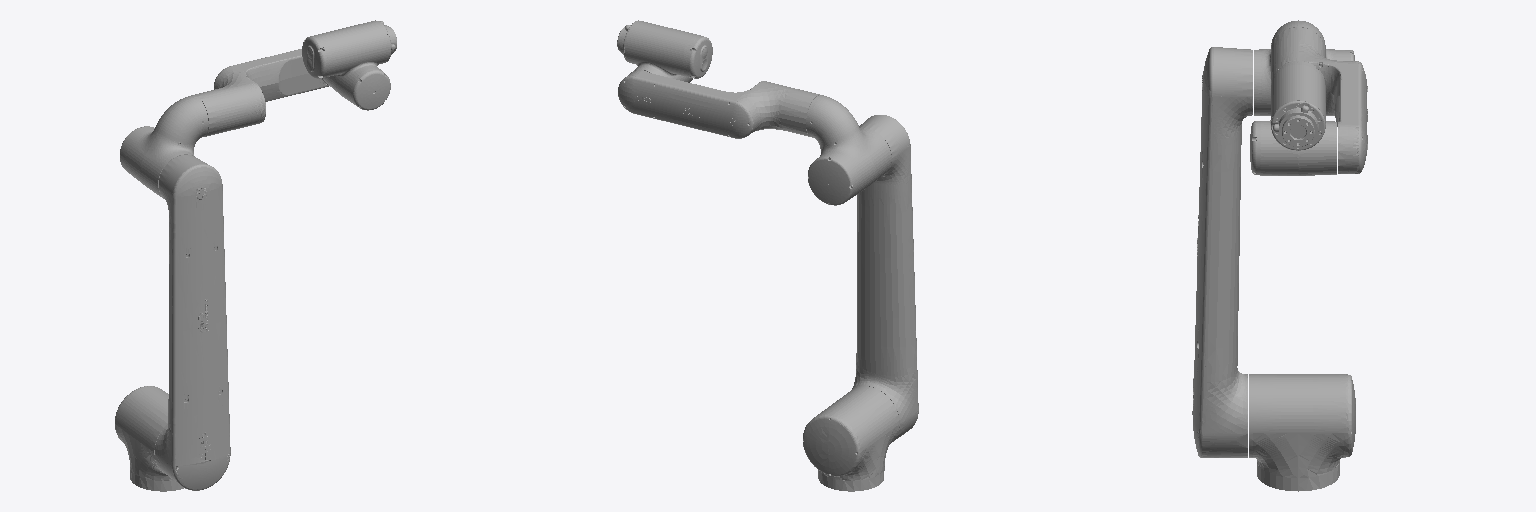
The robot description file, URDF, robot "crb15000_12_127":
<?xml version="1.0" ?>

<robot name="crb15000_12_127">

    <!-- links: main serial chain -->
    <link name="base_dummy"/>
    <link name="base_link">
        <visual>
            <origin rpy="0 0 0" xyz="0 0 0"/>
            <geometry>
                <mesh filename="package://gofa_description/meshes/crb15000_12_127/visual/base_link.stl"/>
            </geometry>
            <material name="LightGrey">
                <color rgba="0.7 0.7 0.7 1.0"/>
            </material>
        </visual>
        <collision>
            <origin rpy="0 0 0" xyz="0 0 0"/>
            <geometry>
                <mesh filename="package://gofa_description/meshes/crb15000_12_127/collision/base_link.stl"/>
            </geometry>
        </collision>
    </link>
    <link name="shoulder_link">
        <visual>
            <origin rpy="0 0 0" xyz="0 0 0.338"/>
            <geometry>
                <mesh filename="package://gofa_description/meshes/crb15000_12_127/visual/link_1.stl"/>
            </geometry>
            <material name="LightGrey">
                <color rgba="0.7 0.7 0.7 1.0"/>
            </material>
        </visual>
        <collision>
            <origin rpy="0 0 0" xyz="0 0 0.338"/>
            <geometry>
                <mesh filename="package://gofa_description/meshes/crb15000_12_127/collision/link_1.stl"/>
            </geometry>
        </collision>
    </link>
    <link name="upper_arm_link">
        <visual>
            <origin rpy="0 0 0" xyz="0 0 0"/>
            <geometry>
                <mesh filename="package://gofa_description/meshes/crb15000_12_127/visual/link_2.stl"/>
            </geometry>
            <material name="LightGrey">
                <color rgba="0.7 0.7 0.7 1.0"/>
            </material>
        </visual>
        <collision>
            <origin rpy="0 0 0" xyz="0 0 0"/>
            <geometry>
                <mesh filename="package://gofa_description/meshes/crb15000_12_127/collision/link_2.stl"/>
            </geometry>
        </collision>
    </link>
    <link name="forearm_link">
        <visual>
            <origin rpy="1.5707963 0 0" xyz="0 0 0"/>
            <geometry>
            <mesh filename="package://gofa_description/meshes/crb15000_12_127/visual/link_3.stl"/>
            </geometry>
            <material name="LightGrey">
                <color rgba="0.7 0.7 0.7 1.0"/>
            </material>
        </visual>
        <collision>
            <origin rpy="1.5707963 0 0" xyz="0 0 0"/>
            <geometry>
                <mesh filename="package://gofa_description/meshes/crb15000_12_127/collision/link_3.stl"/>
            </geometry>
        </collision>
    </link>
    <link name="wrist_1_link">
        <visual>
            <origin rpy="0 -1.5707963 3.141593" xyz="0 0 0"/>
            <geometry>
                <mesh filename="package://gofa_description/meshes/crb15000_12_127/visual/link_4.stl"/>
            </geometry>
            <material name="LightGrey">
                <color rgba="0.7 0.7 0.7 1.0"/>
            </material>
        </visual>
        <collision>
            <origin rpy="0 -1.5707963 3.141593" xyz="0 0 0"/>
            <geometry>
                <mesh filename="package://gofa_description/meshes/crb15000_12_127/collision/link_4.stl"/>
            </geometry>
        </collision>
    </link>
    <link name="wrist_2_link">
        <visual>
            <origin rpy="1.5707963 0 1.5707963" xyz="0 0 0"/>
            <geometry>
                <mesh filename="package://gofa_description/meshes/crb15000_12_127/visual/link_5.stl"/>
            </geometry>
            <material name="LightGrey">
                <color rgba="0.7 0.7 0.7 1.0"/>
            </material>
        </visual>
        <collision>
            <origin rpy="1.5707963 0 1.5707963" xyz="0 0 0"/>
            <geometry>
                <mesh filename="package://gofa_description/meshes/crb15000_12_127/collision/link_5.stl"/>
            </geometry>
        </collision>
    </link>
    <link name="wrist_3_link">
        <visual>
            <origin rpy="0 -1.5707963 0" xyz="0 0 0.101"/>
            <geometry>
                <mesh filename="package://gofa_description/meshes/crb15000_12_127/visual/link_6.stl"/>
            </geometry>
            <material name="LightGrey">
                <color rgba="0.7 0.7 0.7 1.0"/>
            </material>
        </visual>
        <collision>
            <origin rpy="0 -1.5707963 0" xyz="0 0 0.101"/>
            <geometry>
                <mesh filename="package://gofa_description/meshes/crb15000_12_127/collision/link_6.stl"/>
            </geometry>
        </collision>
    </link>

    <!-- joints: main serial chain -->
    <joint name="base_joint" type="fixed">
        <parent link="base_dummy"/>
        <child link="base_link"/>
    </joint>
    <joint name="shoulder_pan_joint" type="revolute">
        <parent link="base_link"/>
        <child link="shoulder_link"/>
        <origin rpy="0 0 0" xyz="0 0 0"/>
        <axis xyz="0 0 1" />
        <limit effort="0" lower="-3.141593" upper="3.141593" velocity="2.181662"/>
        <dynamics damping="0.0" friction="0.0"/>
    </joint>
    <joint name="shoulder_lift_joint" type="revolute">
        <parent link="shoulder_link"/>
        <child link="upper_arm_link"/>
        <origin rpy="-1.5707963 0 0" xyz="0 0 0.338"/>
        <axis xyz="0 0 1"/>
        <limit effort="0" lower="-3.141593" upper="3.141593" velocity="2.181662"/>
        <dynamics damping="0.0" friction="0.0"/>
    </joint>
    <joint name="elbow_joint" type="revolute">
        <parent link="upper_arm_link"/>
        <child link="forearm_link"/>
        <origin rpy="0 0 0" xyz="0 -0.707 0"/>
        <axis xyz="0 0 1"/>
        <limit effort="0" lower="-3.926991" upper="1.48353" velocity="2.443461"/>
        <dynamics damping="0.0" friction="0.0"/>
    </joint>
    <joint name="wrist_1_joint" type="revolute">
        <parent link="forearm_link"/>
        <child link="wrist_1_link"/>
        <origin rpy="-1.5707963 0 -1.5707963" xyz="0 -0.110 0"/>
        <axis xyz="0 0 1"/>
        <limit effort="0" lower="-3.141593" upper="3.141593" velocity="3.490659"/>
        <dynamics damping="0.0" friction="0.0"/>
    </joint>
    <joint name="wrist_2_joint" type="revolute">
        <parent link="wrist_1_link"/>
        <child link="wrist_2_link"/>
        <origin rpy="1.5707963 0 0" xyz="0 0 0.534"/>
        <axis xyz="0 0 1"/>
        <limit effort="0" lower="-3.141593" upper="3.141593" velocity="3.490659"/>
        <dynamics damping="0.0" friction="0.0"/>
    </joint>
    <joint name="wrist_3_joint" type="revolute">
        <parent link="wrist_2_link"/>
        <child link="wrist_3_link"/>
        <origin rpy="-1.5707963 0 0" xyz="0.080 0 0"/>
        <axis xyz="0 0 1" />
        <limit effort="0" lower="-3.141593" upper="3.141593" velocity="3.490659"/>
        <dynamics damping="0.0" friction="0.0"/>
    </joint>


    <!-- ROS-Industrial 'flange' frame: attachment point for EEF models -->
    <link name="flange"/>
    <joint name="wrist_3-flange" type="fixed">
          <parent link="wrist_3_link"/>
          <child link="flange"/>
          <origin rpy="0 -1.5707963 3.141593" xyz="0 0 0.101"/>
    </joint>

    <!-- ROS-Industrial 'tool0' frame: all-zeros tool frame -->
    <link name="tool0"/>
    <joint name="flange-tool0" type="fixed">
          <!-- default toolframe: X+ left, Y+ up, Z+ front -->
          <origin rpy="1.5707963267948966 0 1.5707963267948966" xyz="0 0 0"/>
          <parent link="flange"/>
          <child link="tool0"/>
    </joint>

</robot>

--- What the picture shows (computed from the rendered views, not written in the file) ---
3 views of the same robot in one strip: view 1: azimuth 30°, elevation 25°; view 2: azimuth 150°, elevation 25°; view 3: azimuth 270°, elevation 25° (orthographic).
Model crb15000_12_127 with 10 links and 9 joints (6 revolute, 3 fixed), rooted at base_dummy, posed every joint at zero.
Visible links, largest first — view 1: upper_arm_link, wrist_1_link, wrist_2_link, forearm_link, shoulder_link; view 2: upper_arm_link, wrist_1_link, shoulder_link, forearm_link, wrist_2_link; view 3: upper_arm_link, shoulder_link, wrist_1_link, wrist_2_link, wrist_3_link, forearm_link.
Boxes of the visible links, x1,y1,x2,y2 form: upper_arm_link: [155, 155, 230, 490]; wrist_1_link: [195, 49, 328, 136]; wrist_2_link: [302, 21, 390, 110]; forearm_link: [120, 95, 208, 198]; shoulder_link: [115, 386, 183, 491]; upper_arm_link: [852, 115, 918, 441]; wrist_1_link: [618, 70, 819, 138]; shoulder_link: [803, 386, 899, 491]; forearm_link: [806, 95, 891, 205]; wrist_2_link: [624, 21, 712, 82]; upper_arm_link: [1192, 47, 1252, 457]; shoulder_link: [1249, 374, 1355, 491]; wrist_1_link: [1271, 27, 1367, 173]; wrist_2_link: [1250, 61, 1336, 175]; wrist_3_link: [1271, 101, 1325, 150]; forearm_link: [1254, 20, 1354, 115].
Bounding box of the posed robot: 0.7157 × 0.3367 × 1.07 m (x, y, z).
6 mesh visuals loaded from 7 distinct referenced files (6 binary STL); not drawn: 1 (reference not matched to a file when rendering).
